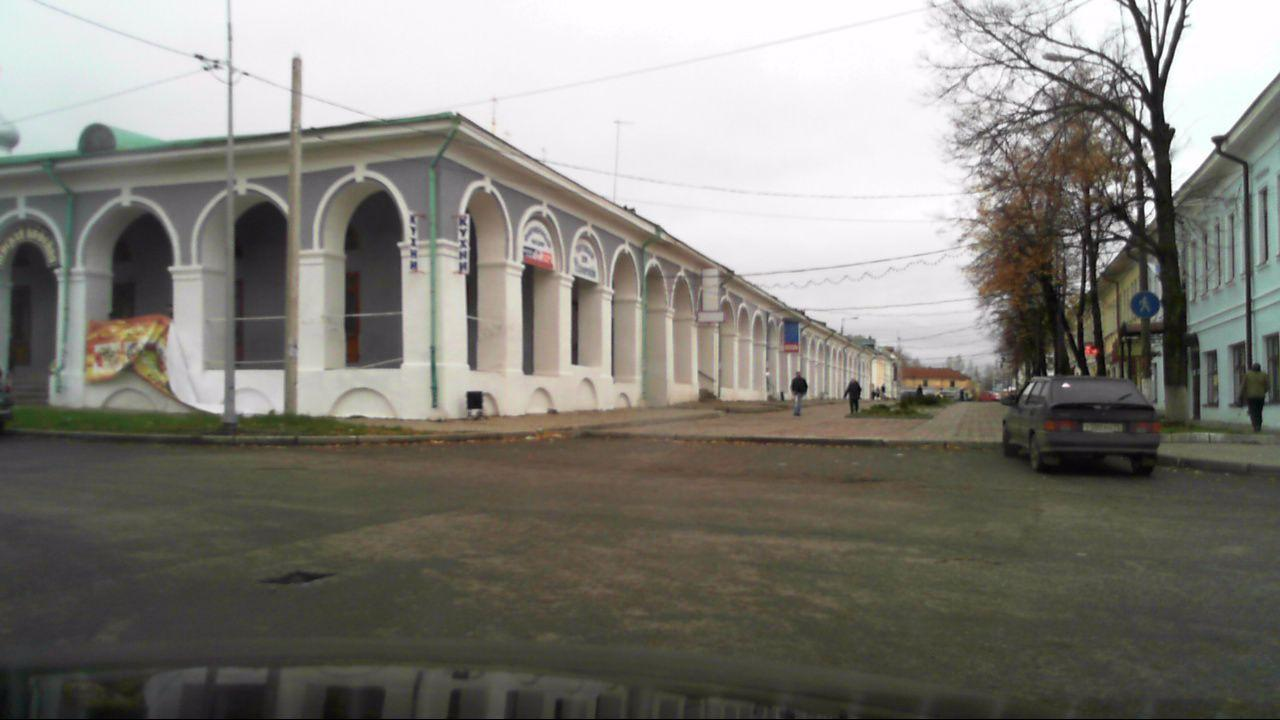4_5_1: (1130, 290, 1162, 321)
